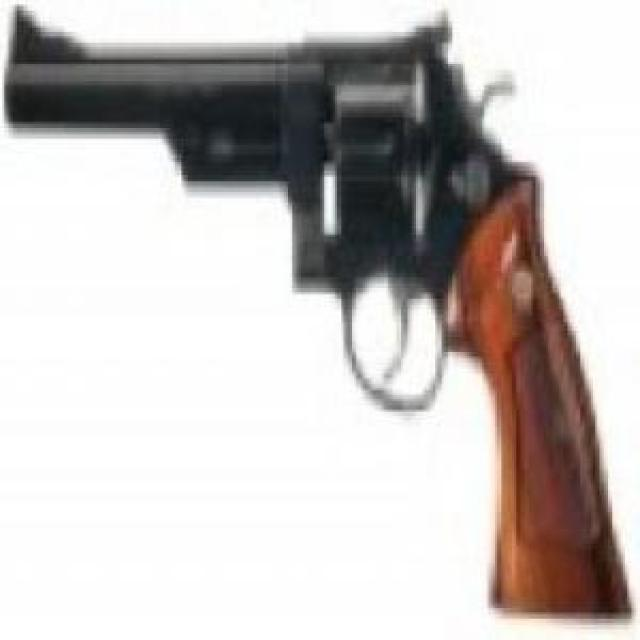pistol: (9, 6, 634, 609)
